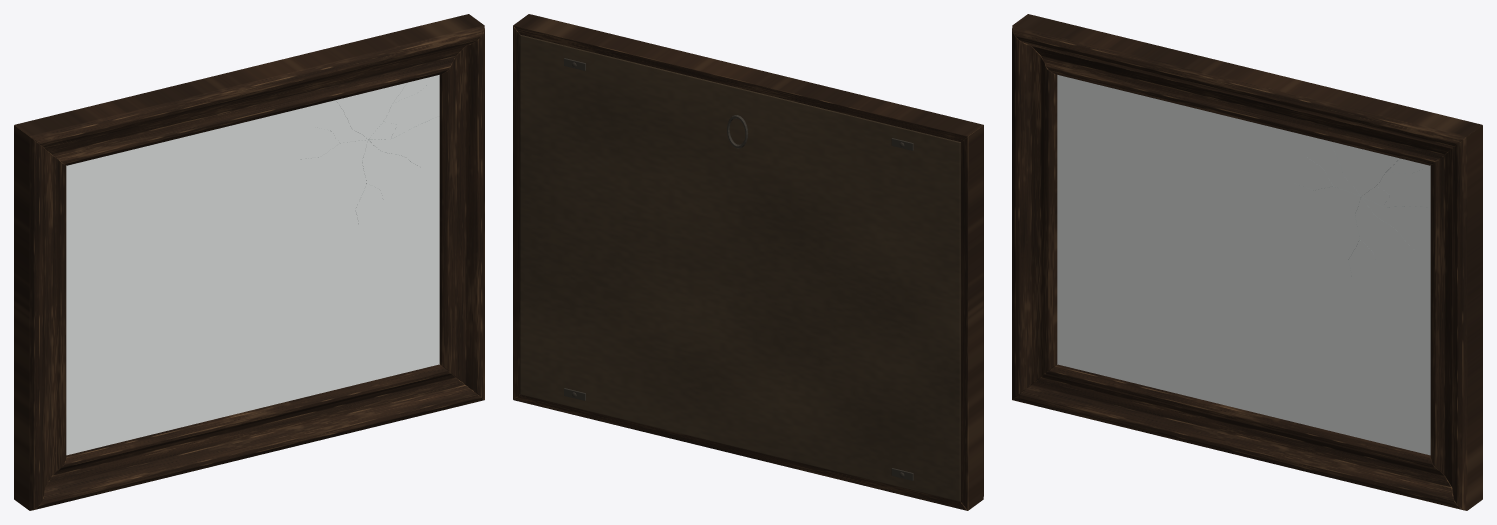
The model's file is OldPhotoFrame.fbx.
The picture shows the model from 3 angles, left to right: view 1: azimuth 30°, elevation 25°; view 2: azimuth 150°, elevation 25°; view 3: azimuth 330°, elevation 25°; orthographic projection.
Parts seen in each view (by area): view 1: GlassPane, Frame_Top, Frame_Bottom, Frame_Left, Frame_Right; view 2: Backboard, Frame_Top, Frame_Left, Frame_Bottom, Frame_Right; view 3: GlassPane, Frame_Top, Frame_Bottom, Frame_Right, Frame_Left.
Part boxes in pixels (x1=…): GlassPane: x1=66, y1=75, x2=439, y2=455; Frame_Top: x1=14, y1=14, x2=484, y2=165; Frame_Bottom: x1=30, y1=364, x2=484, y2=510; Frame_Left: x1=14, y1=125, x2=66, y2=510; Frame_Right: x1=439, y1=25, x2=484, y2=399; Backboard: x1=520, y1=35, x2=960, y2=501; Frame_Top: x1=513, y1=14, x2=983, y2=141; Frame_Left: x1=960, y1=125, x2=983, y2=510; Frame_Bottom: x1=513, y1=394, x2=967, y2=510; Frame_Right: x1=513, y1=25, x2=520, y2=399; GlassPane: x1=1057, y1=75, x2=1430, y2=455; Frame_Top: x1=1012, y1=14, x2=1482, y2=165; Frame_Bottom: x1=1012, y1=364, x2=1466, y2=510; Frame_Right: x1=1430, y1=125, x2=1482, y2=510; Frame_Left: x1=1012, y1=25, x2=1057, y2=399.
Bounding box in the file's own units: 32 × 25.19 × 2.8.
7 materials, 4 textured.
